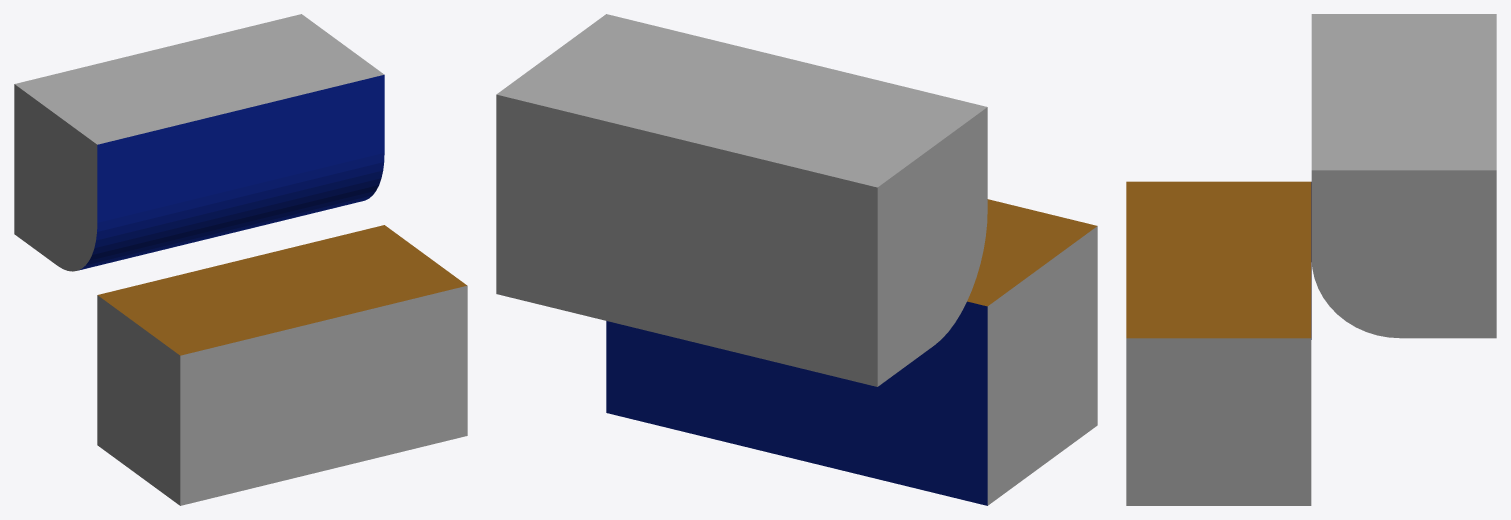
Rendered from case_60.fbx.
3 views of the same model, side by side, from view 1: azimuth 30°, elevation 25°; view 2: azimuth 150°, elevation 25°; view 3: azimuth 270°, elevation 25° (orthographic). The views are drawn at different scales.
Parts seen in each view (by area): view 1: case_60; view 2: case_60; view 3: case_60.
Part boxes in pixels (box(x1,y1,x2,y2)): case_60: box(14, 14, 467, 505); case_60: box(496, 14, 1097, 505); case_60: box(1126, 14, 1496, 505).
Size of the model in its own units: 100 by 100 by 100.
